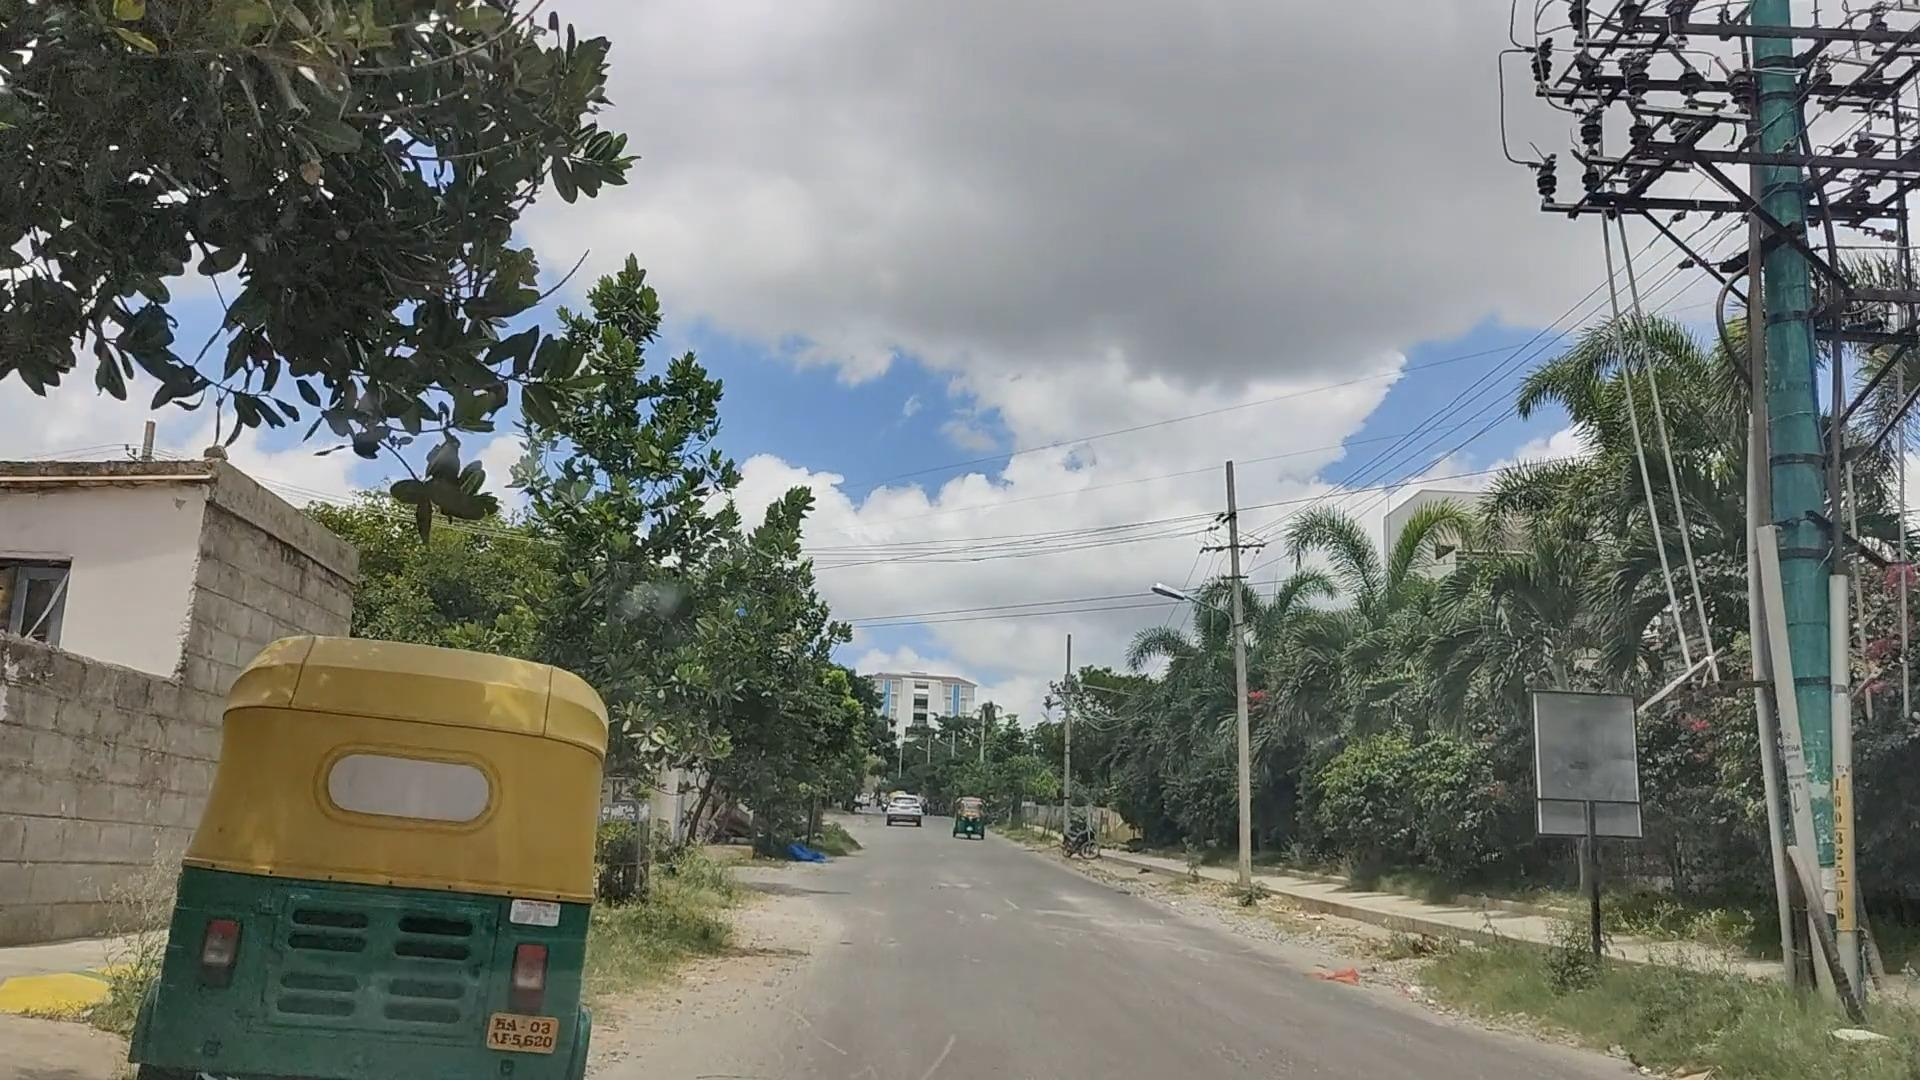LMV: (1043, 803, 1110, 870)
